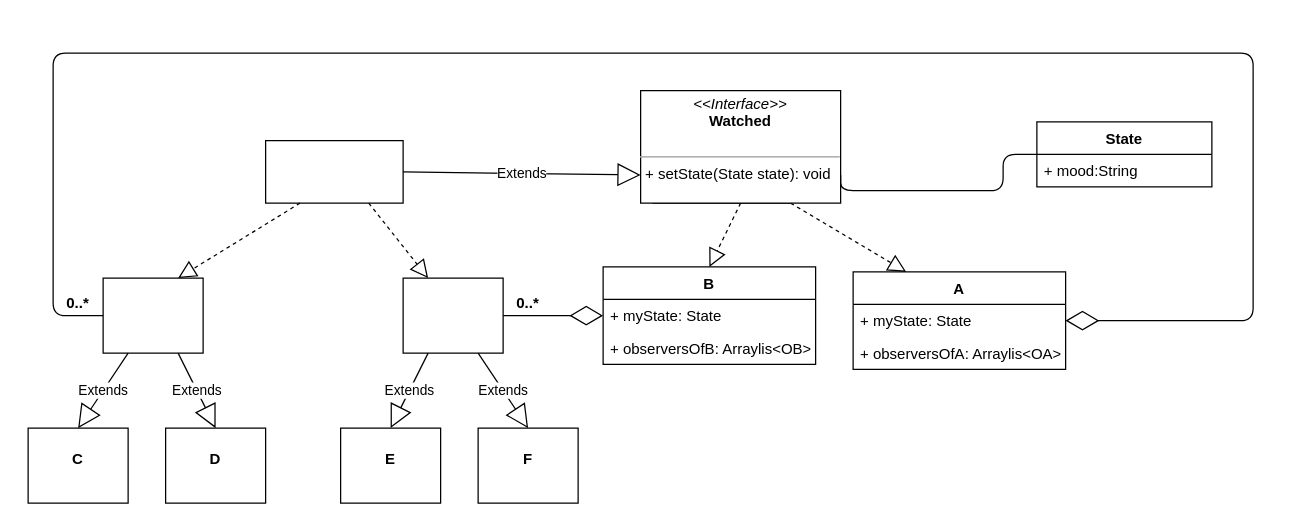
Image size: 1308x525. Some labels were removed from this diagram. Each missing label, with the centre of its shape:
"<<OA>>" goes at point (152, 315).
"<<OB>>" goes at point (452, 315).
"«interface» Watcher" goes at point (333, 171).
